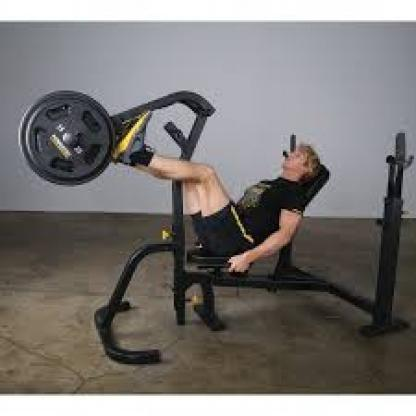leg press: (10, 54, 416, 367)
